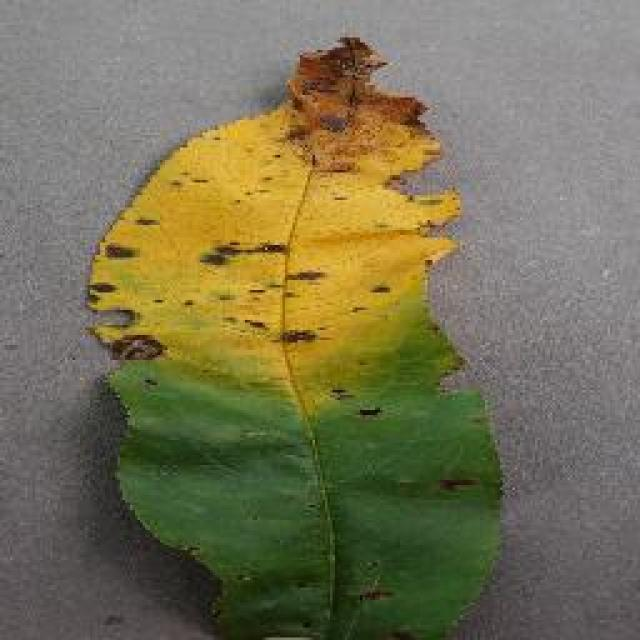Peach_Bacterial_Spot: (128, 79, 487, 498)
